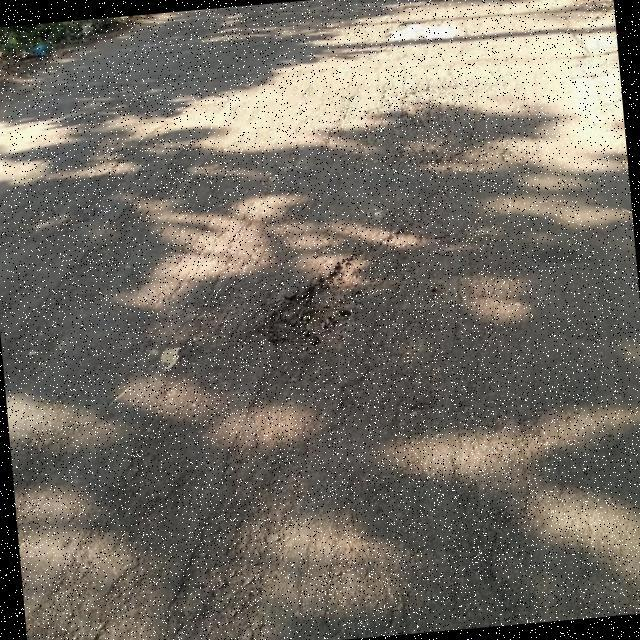Pothole: (263, 250, 408, 349)
